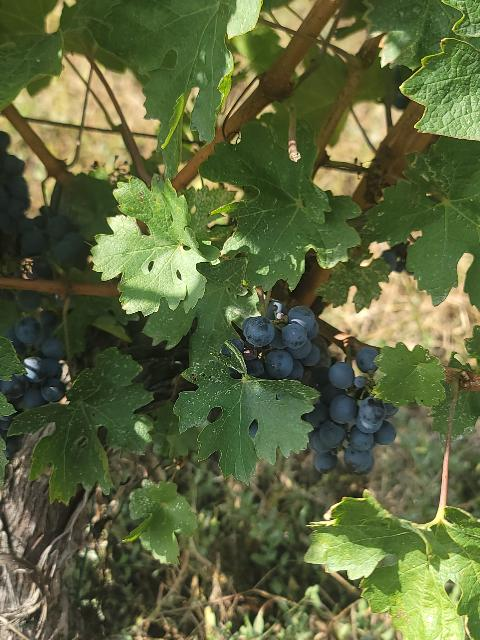grapes: (304, 346, 398, 475), (230, 300, 320, 380)
